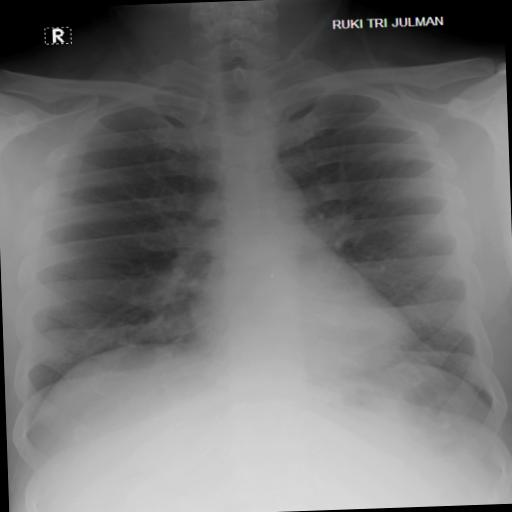kardiomegali: (9, 35, 507, 446)
